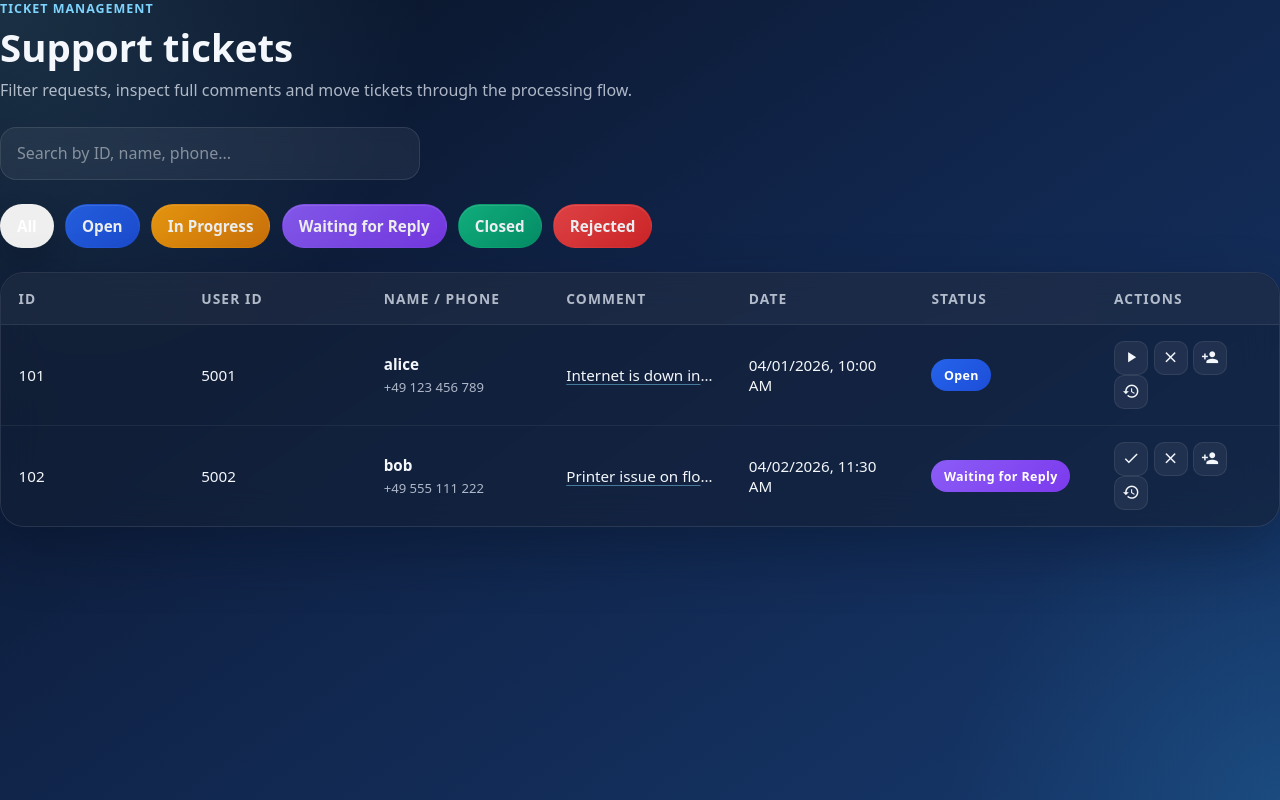
Test: FeedbackTable › filters tickets by search query
Expected: the text "alice" is shown, [384,354,419,374]
Type "555111222" into the field with placeholder "Search by ID, name, phone..." at (210, 153), box [0,127,420,180]
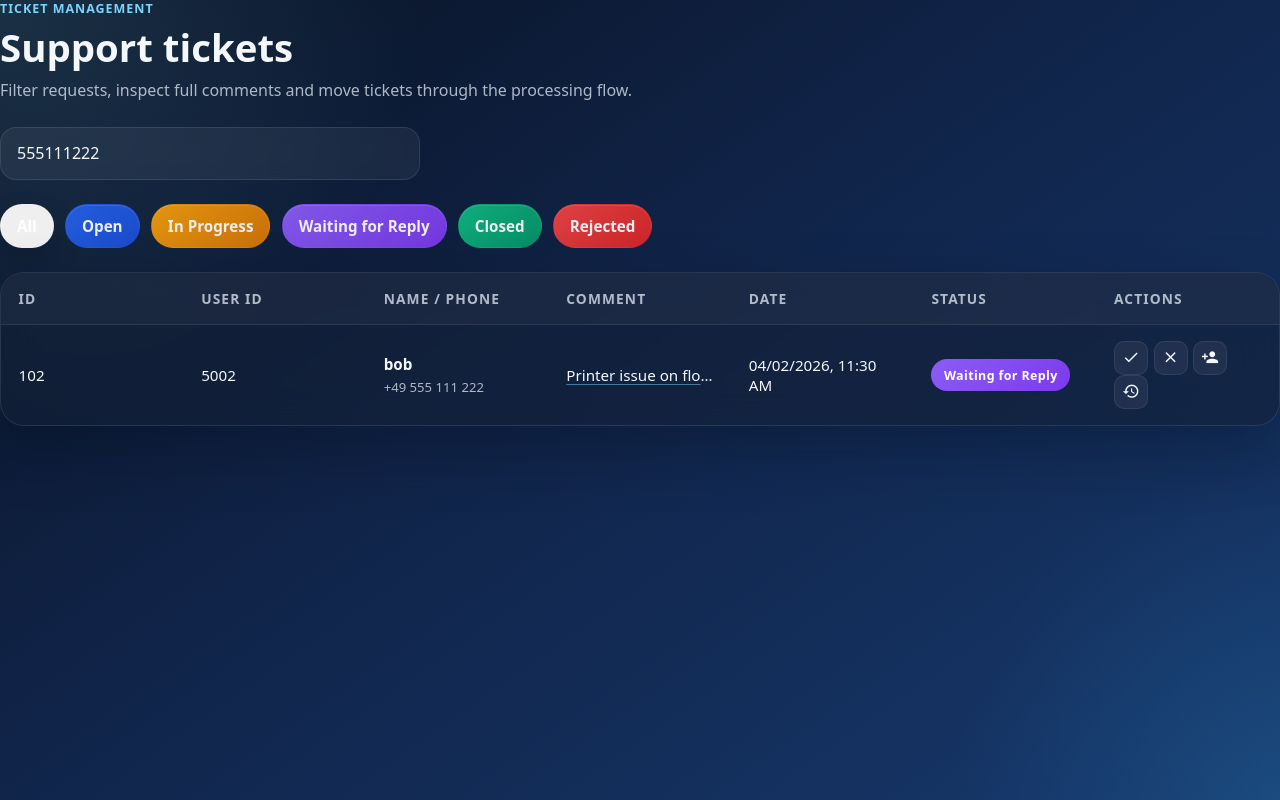
Expected: the text "bob" is shown, [384,354,412,374]
Expected: the text "alice" is gone
